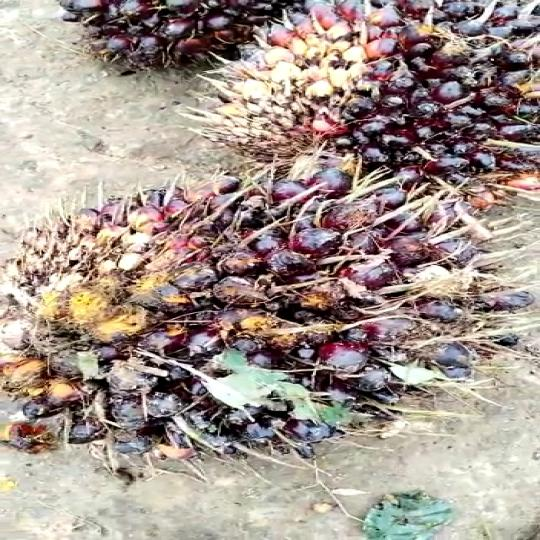kurang masak: (0, 164, 540, 506), (84, 0, 540, 196)
